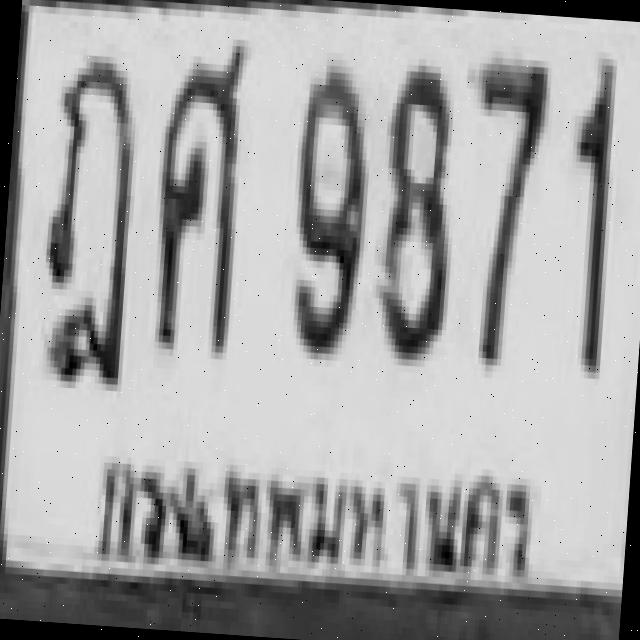1: (558, 57, 617, 366)
23DorChaDa: (33, 47, 140, 384)
47SorSala: (144, 35, 246, 352)
7: (454, 53, 548, 364)
8: (371, 56, 460, 354)
9: (284, 57, 372, 355)
Bangkok: (84, 424, 550, 604)
